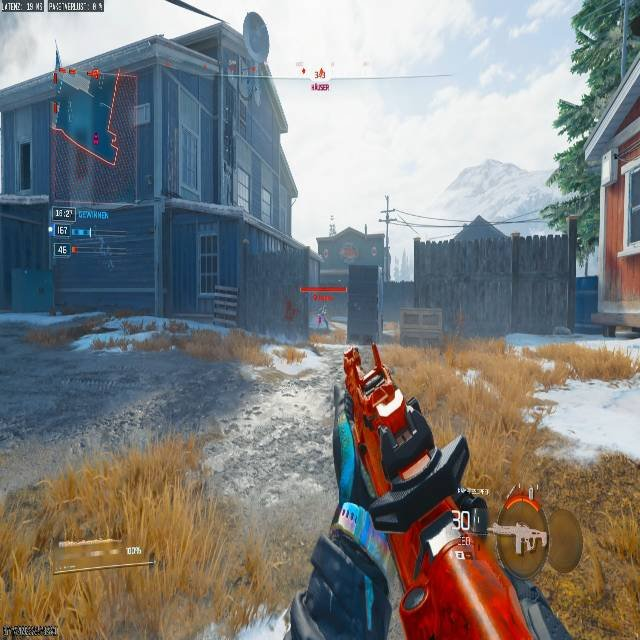player: (317, 302, 329, 328)
